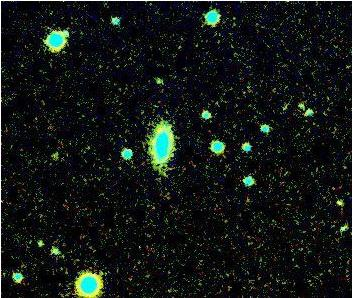star: (145, 66, 175, 96)
